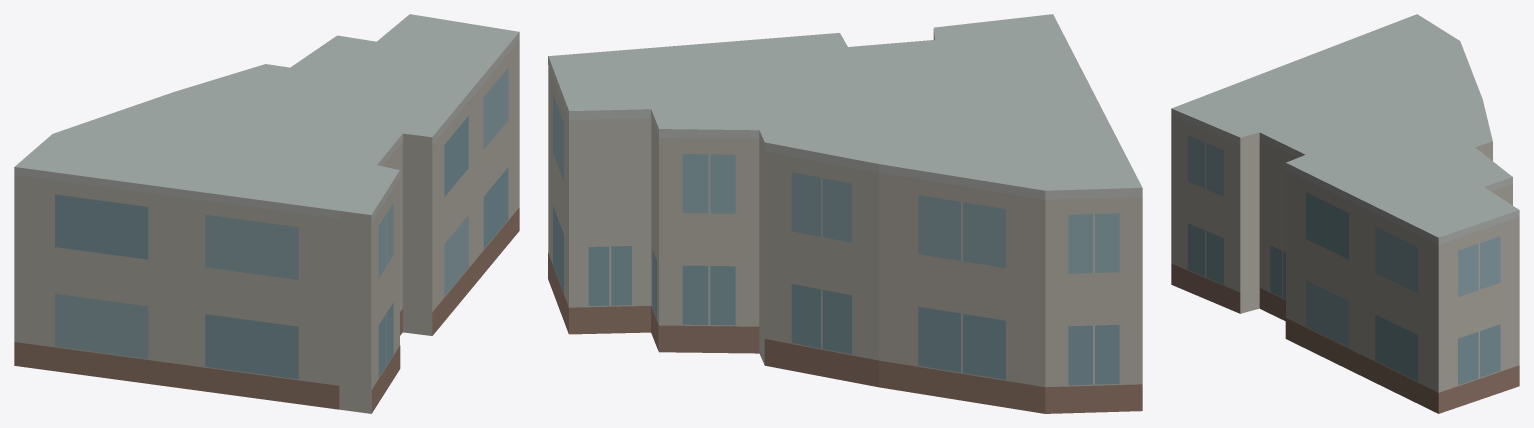
File: survey-upis-32833467.glb
The picture shows the model from 3 angles, left to right: view 1: azimuth 30°, elevation 25°; view 2: azimuth 150°, elevation 25°; view 3: azimuth 270°, elevation 25°; orthographic projection. The views are drawn at different scales.
Visible parts, largest first — view 1: survey-upis-32833467.tmp; view 2: survey-upis-32833467.tmp; view 3: survey-upis-32833467.tmp.
Part boxes in pixels (<box>): survey-upis-32833467.tmp: <box>14,14,519,413</box>; survey-upis-32833467.tmp: <box>548,14,1142,413</box>; survey-upis-32833467.tmp: <box>1171,14,1519,413</box>.
Size of the model in its own units: 16.62 by 6.1 by 10.93.
